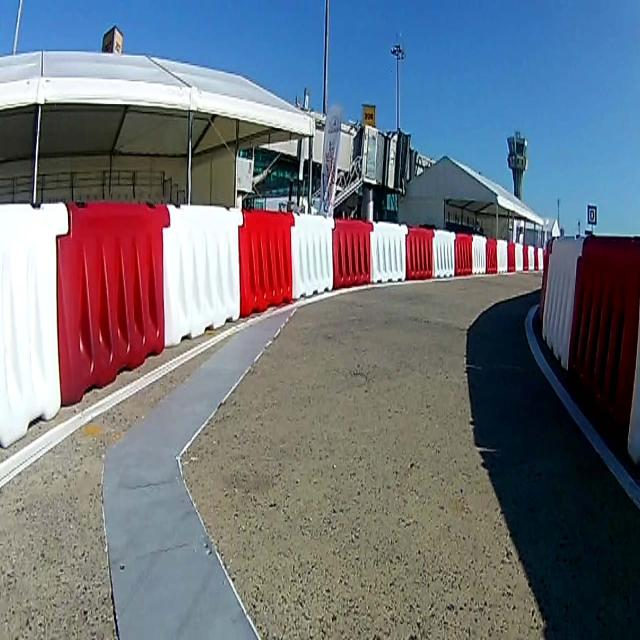durak: (586, 203, 598, 224)
